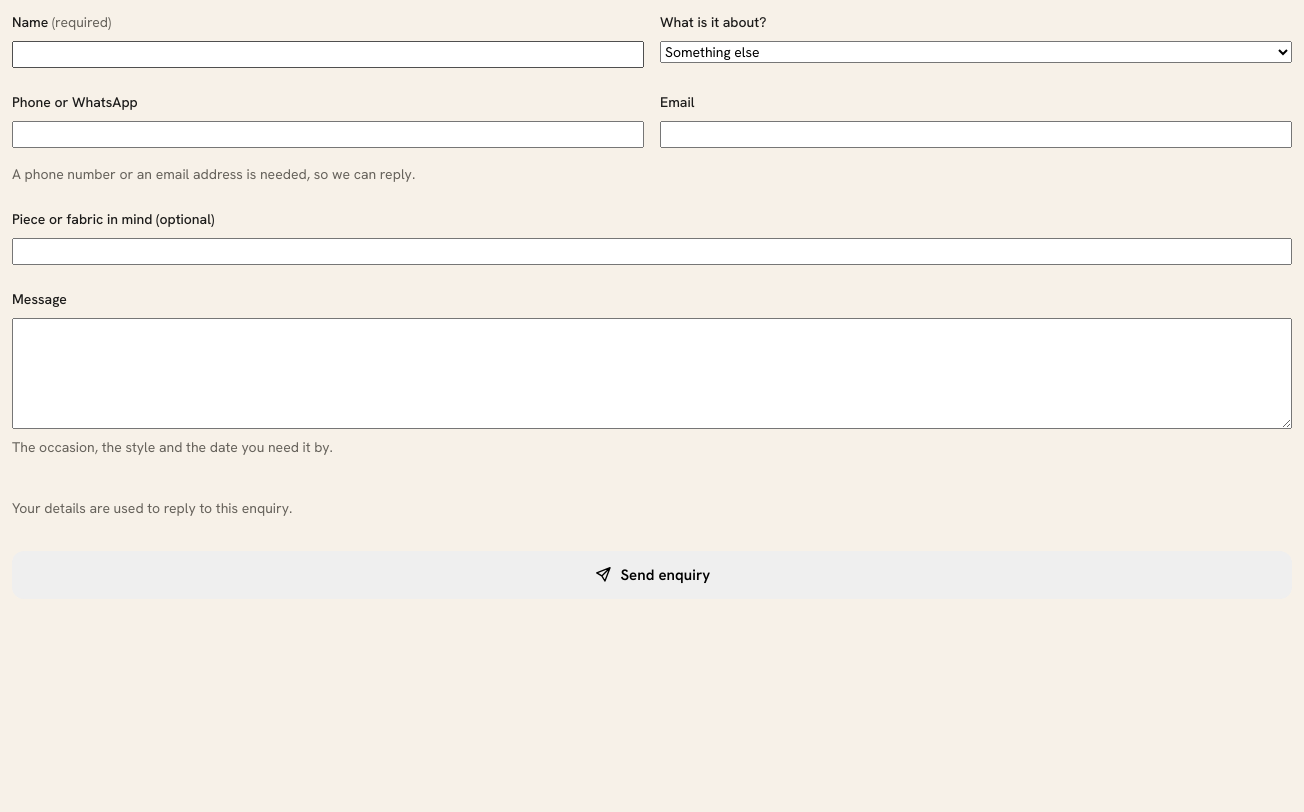
Test: public enquiry form: sending › posts trimmed values with the type contact.php stores, then takes focus to the thank-you panel
The image size is (1304, 812).
In the field labelled "Name (required)": (328, 54) [12,41,644,68], type "  Ada Okafor "
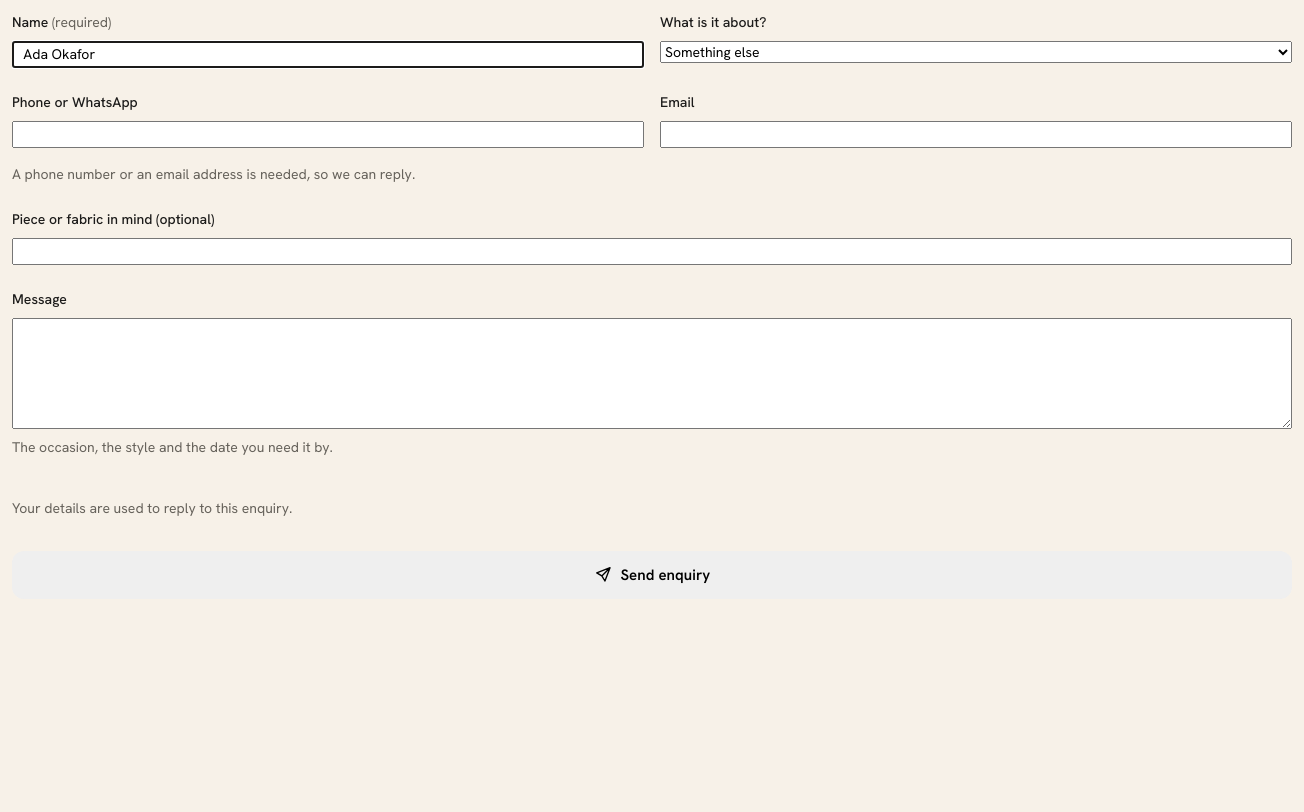
In the field labelled "Phone or WhatsApp": (328, 134) [12,121,644,148], type " 0803 123 4567 "
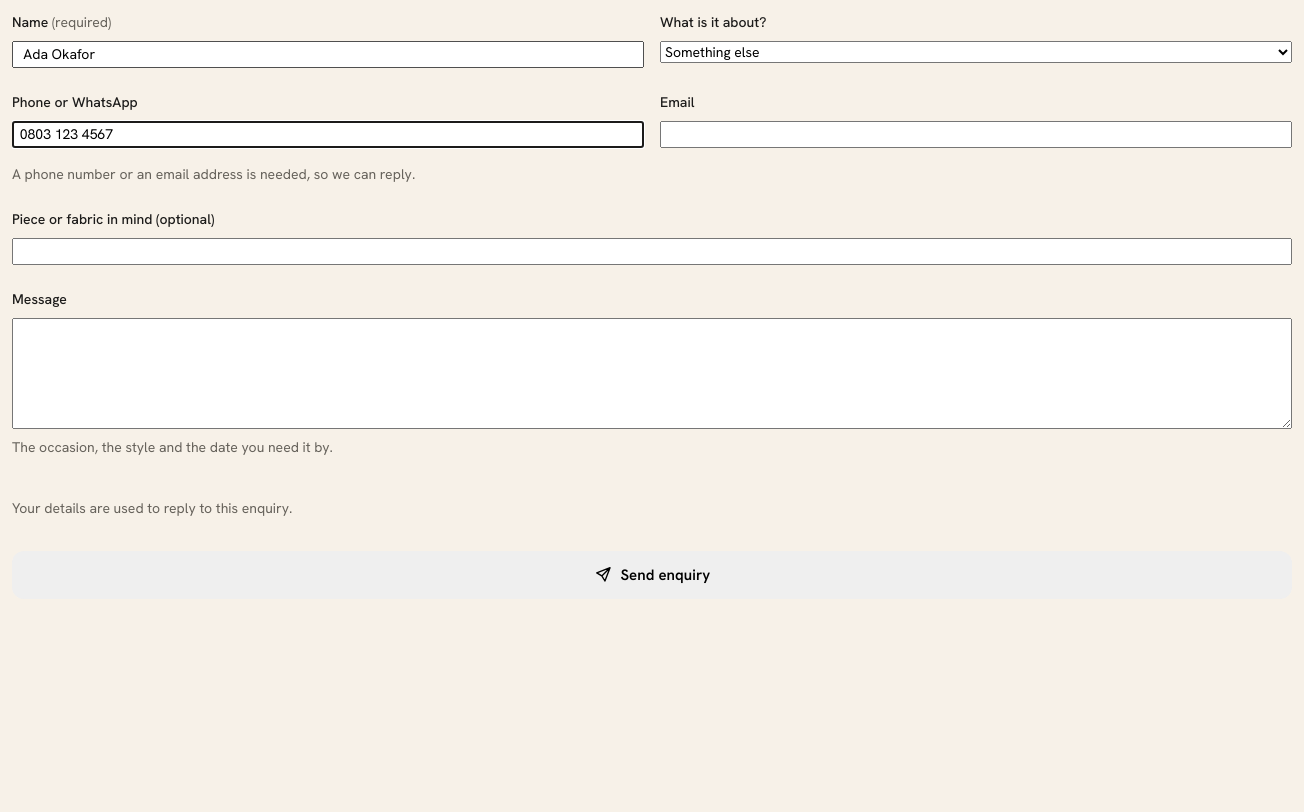
Select "A made-to-measure piece" in the dropdown labelled "What is it about?": (976, 52) [660,41,1292,63]
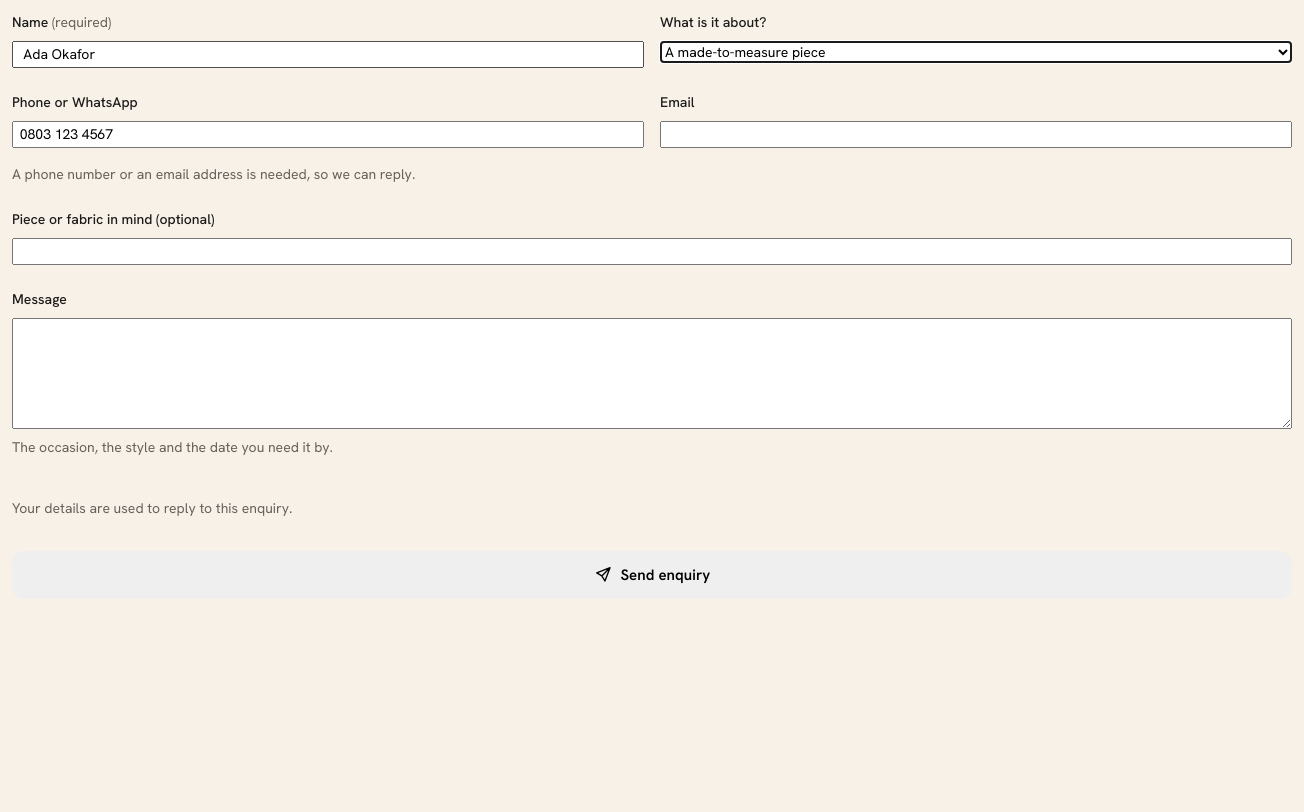
In the field labelled "Piece or fabric in mind (optional)": (652, 252) [12,238,1292,265], type "Ankara agbada"
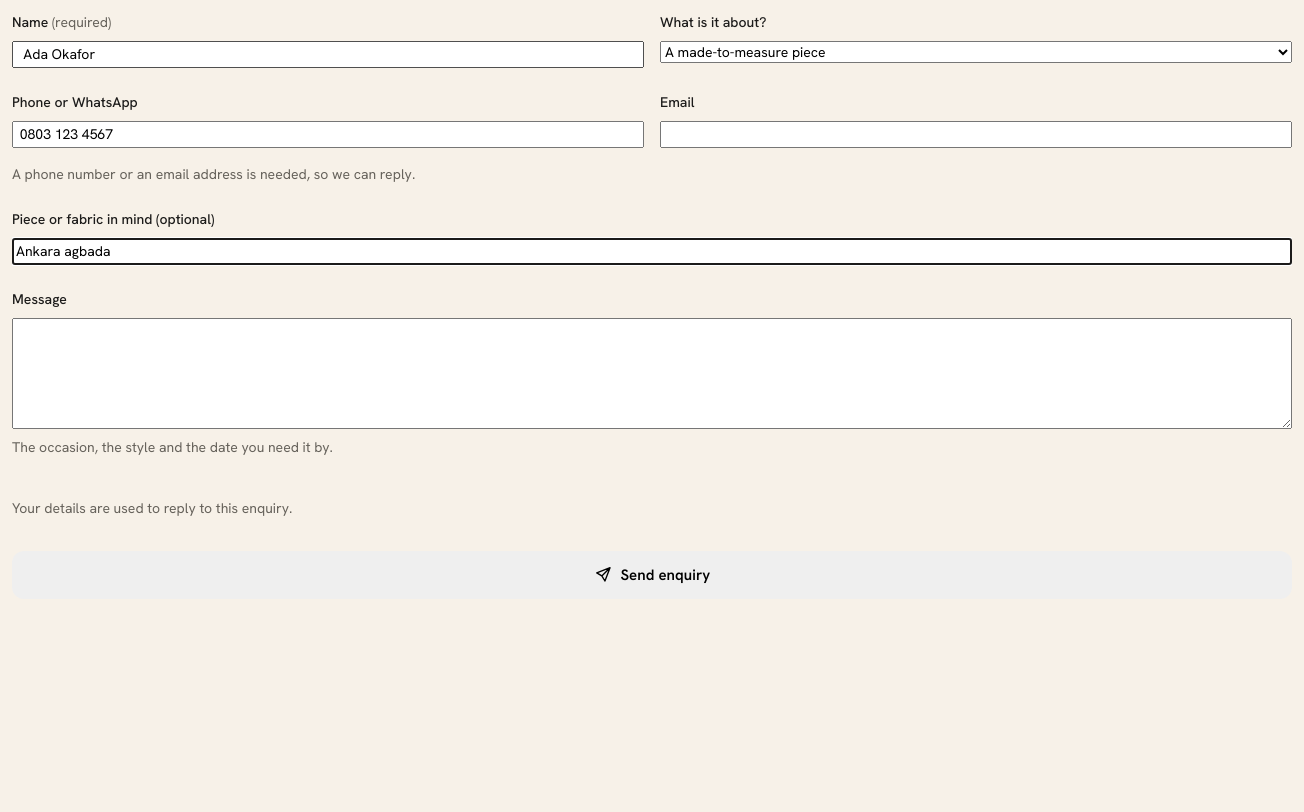
In the text box labelled "Message": (652, 374) [12,318,1292,429], type "Needed by December."
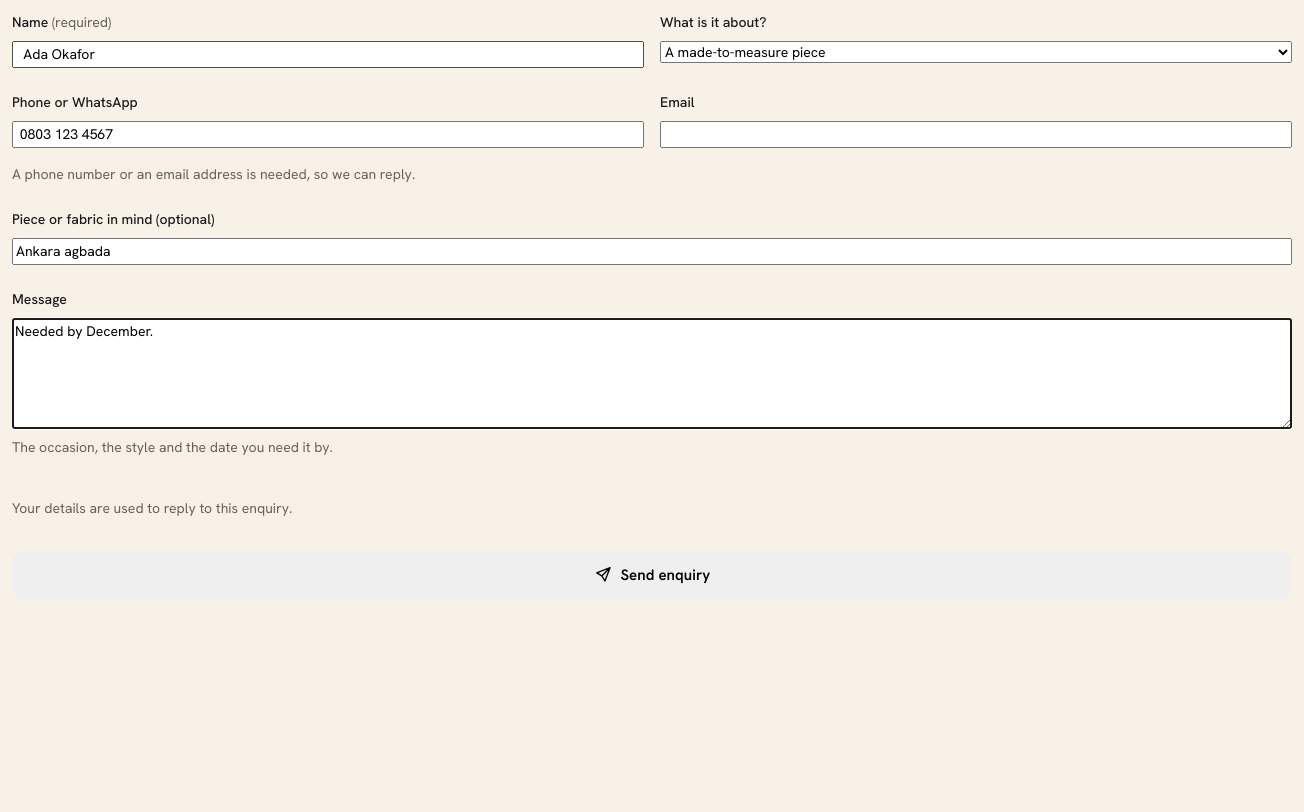
Click the button "Send enquiry": (652, 575) [12,551,1292,599]
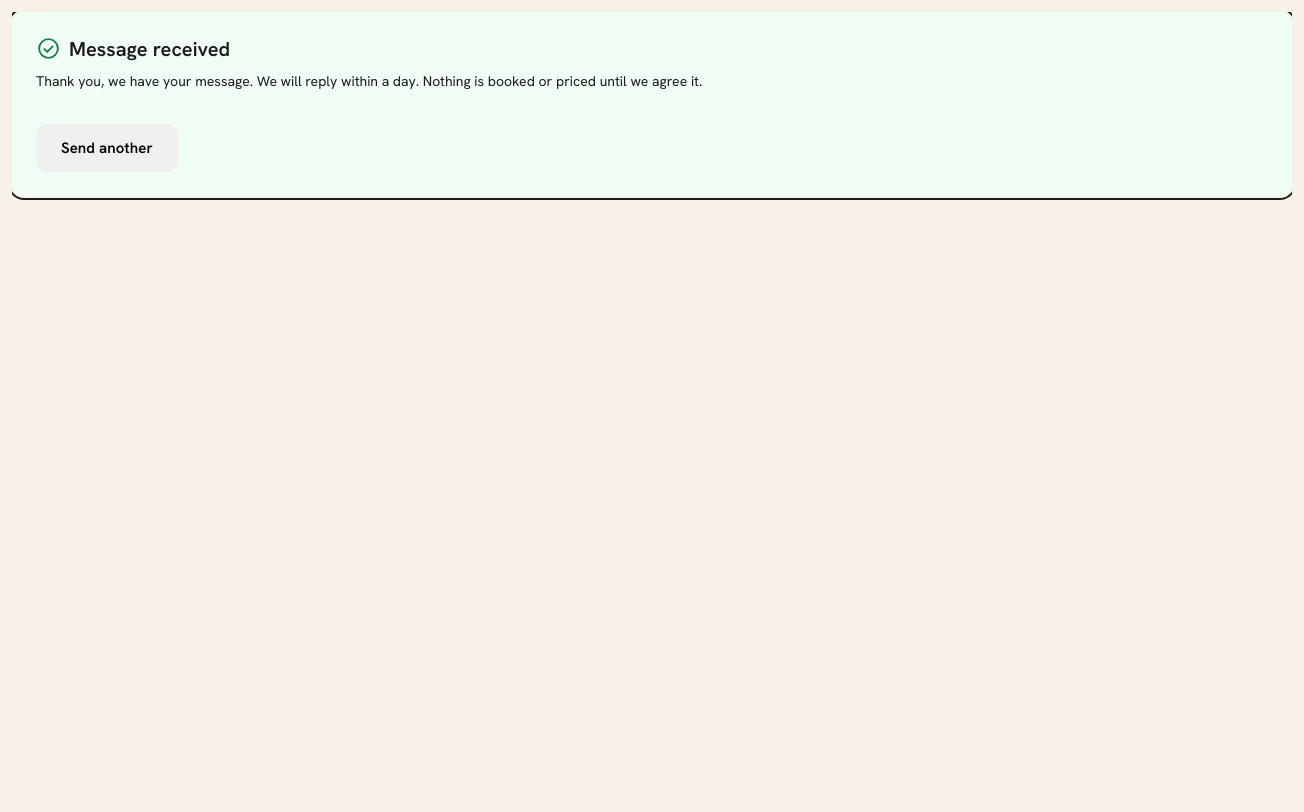
Expected: the message shows "Message received", [69,36,230,62]
Expected: the message shows "We will reply within a day", [12,12,1292,196]
Expected: the message shows "Nothing is booked or priced until we agree it.", [416,72,702,90]
